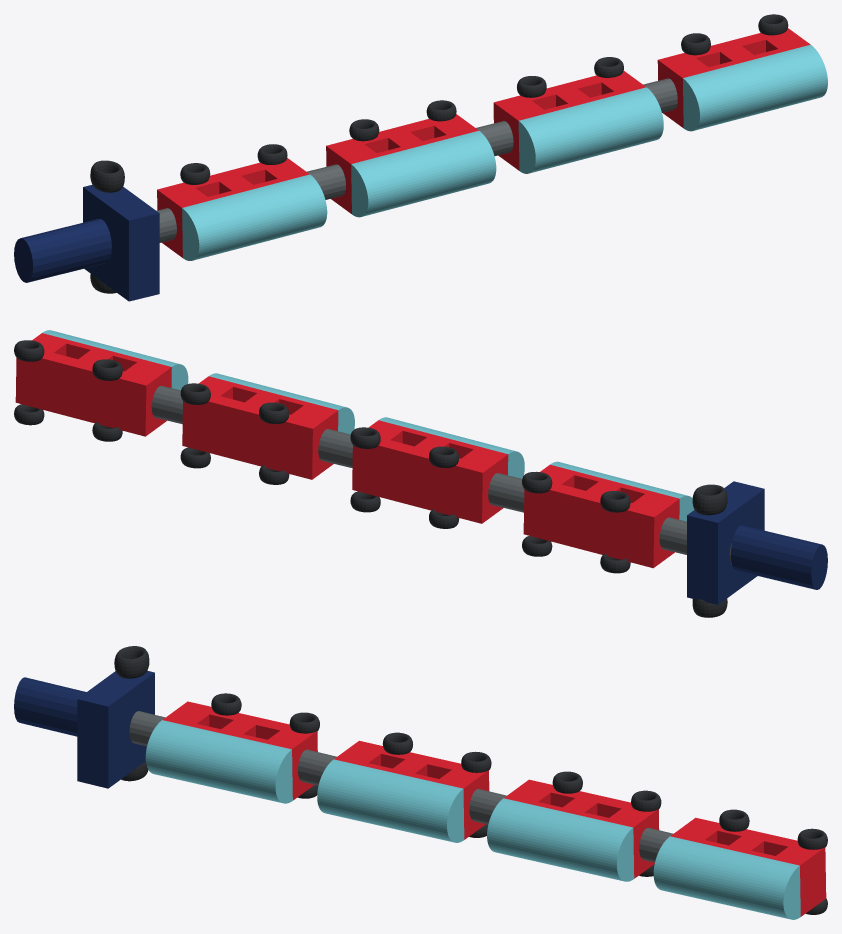
File: tinker.obj
3 renders of one model, top to bottom at view 1: azimuth 30°, elevation 25°; view 2: azimuth 150°, elevation 25°; view 3: azimuth 330°, elevation 25°, orthographic.
Visible parts, largest first — view 1: group_0_7720667, group_0_15277357, group_0_1650274, group_0_2829873, group_0_6383466; view 2: group_0_15277357, group_0_1650274, group_0_2829873, group_0_7720667, group_0_6383466; view 3: group_0_7720667, group_0_15277357, group_0_1650274, group_0_2829873, group_0_6383466.
Boxes of the visible parts, <box> form: group_0_7720667: <box>182,44,827,260</box>; group_0_15277357: <box>157,28,810,257</box>; group_0_1650274: <box>14,184,159,301</box>; group_0_2829873: <box>90,14,788,293</box>; group_0_6383466: <box>156,78,677,242</box>; group_0_15277357: <box>15,333,679,568</box>; group_0_1650274: <box>687,481,827,604</box>; group_0_2829873: <box>14,340,727,617</box>; group_0_7720667: <box>42,330,694,521</box>; group_0_6383466: <box>151,385,731,564</box>; group_0_7720667: <box>145,720,800,919</box>; group_0_15277357: <box>163,701,826,916</box>; group_0_1650274: <box>14,670,154,788</box>; group_0_2829873: <box>114,646,827,914</box>; group_0_6383466: <box>129,711,673,862</box>.
Bounding box in the file's own units: 322 × 48 × 35.
